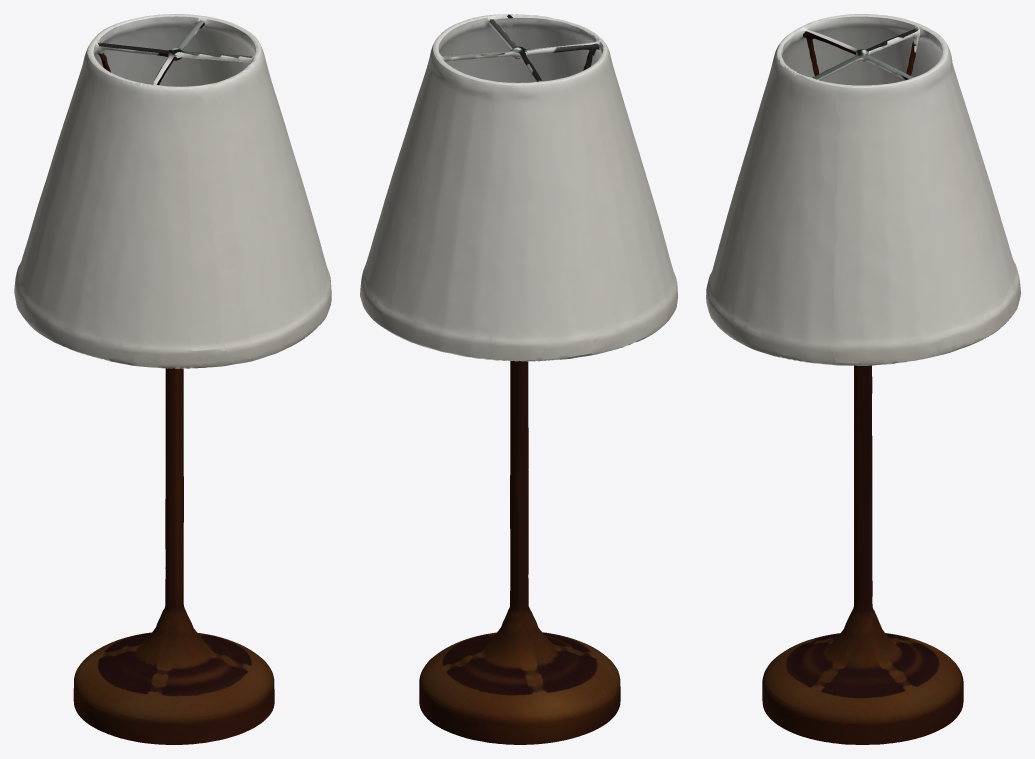
Rendered from lamp__lamp#5.glb.
The picture shows the model from 3 angles, left to right: view 1: azimuth 30°, elevation 25°; view 2: azimuth 150°, elevation 25°; view 3: azimuth 270°, elevation 25°; orthographic projection.
Parts seen in each view (by area): view 1: tmpazspzr5u.ply; view 2: tmpazspzr5u.ply; view 3: tmpazspzr5u.ply.
Part boxes in pixels (left/top/right/bottom): tmpazspzr5u.ply: left=14, top=14, right=331, bottom=744; tmpazspzr5u.ply: left=360, top=14, right=677, bottom=744; tmpazspzr5u.ply: left=706, top=14, right=1020, bottom=744.
Bounding box in the file's own units: 0.8737 × 1.99 × 0.8673.
Materials: 1 (1 with a texture image).
